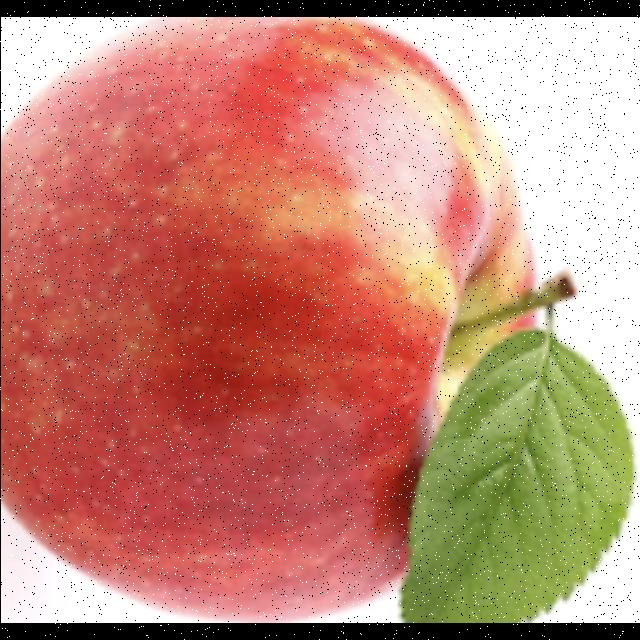Apel Segar: (0, 17, 526, 624)
